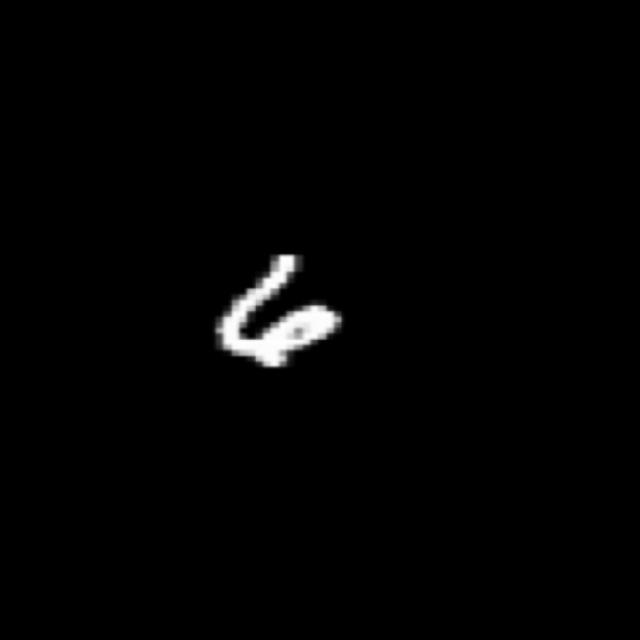six -6-: (206, 246, 344, 369)
